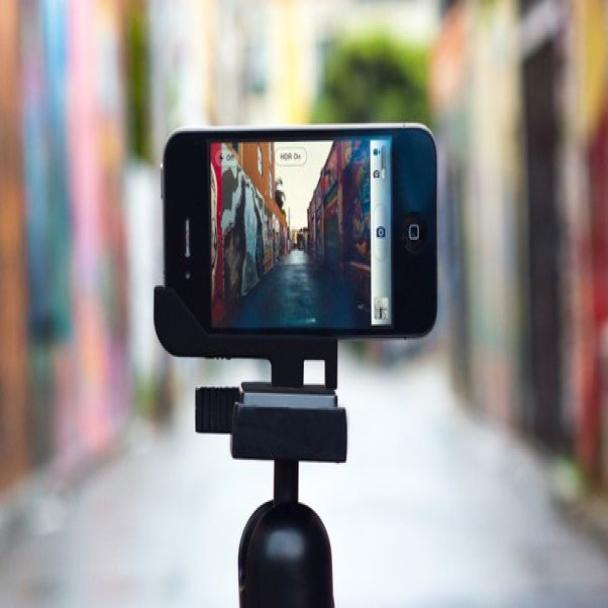Handphone: (152, 121, 448, 354)
